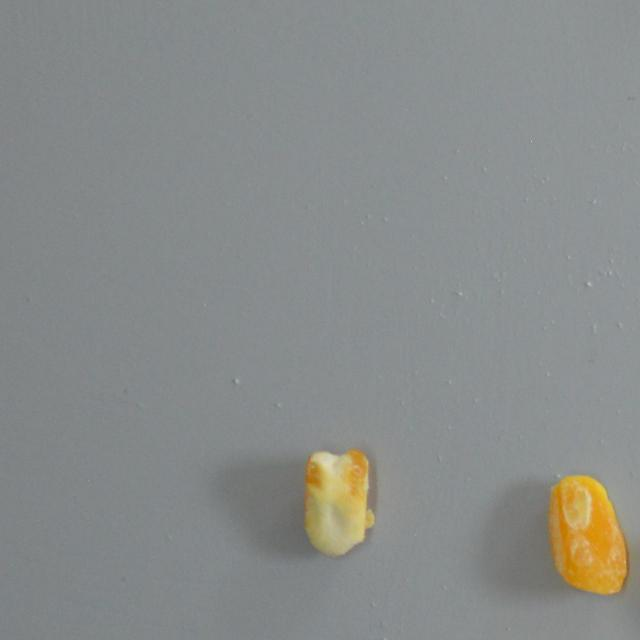dañado: (546, 466, 630, 600), (296, 443, 380, 565)
